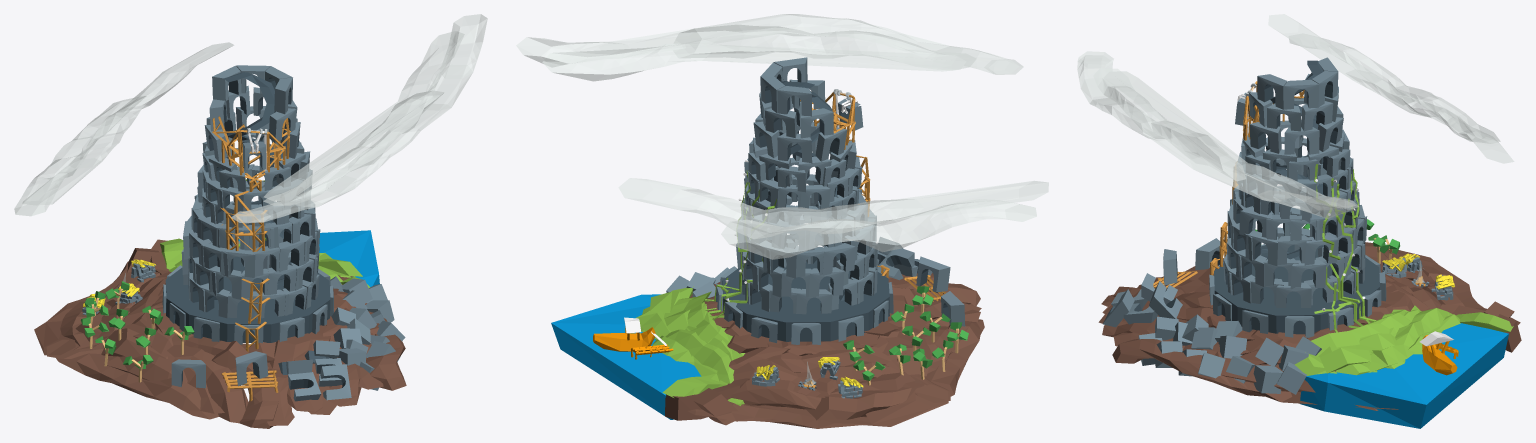
The model's file is Tower of babel.glb.
3 renders of one model, left to right at view 1: azimuth 30°, elevation 25°; view 2: azimuth 150°, elevation 25°; view 3: azimuth 270°, elevation 25°, orthographic. The views are drawn at different scales.
Parts seen in each view (by area): view 1: Node; view 2: Node; view 3: Node.
Part boxes in pixels (x1,y1,x2,y2): Node: [14, 14, 487, 428]; Node: [516, 14, 1048, 428]; Node: [1077, 14, 1521, 428].
Size of the model in its own units: 3.92 by 2.07 by 3.02.
